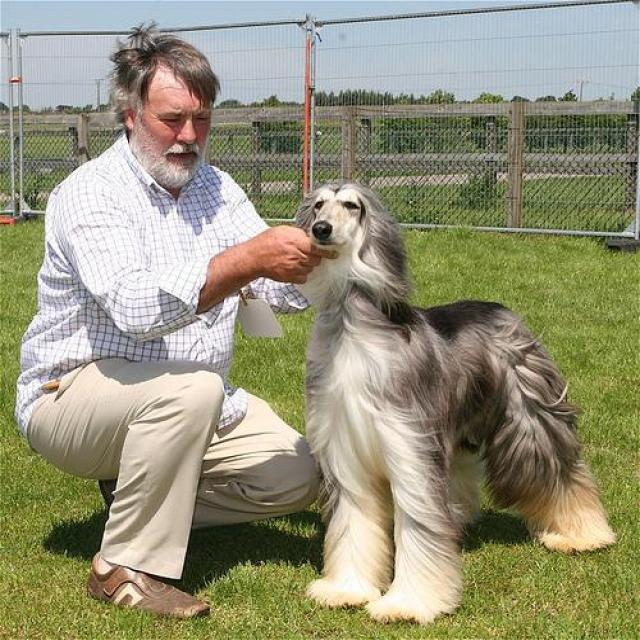afghan_hound: (292, 178, 618, 624)
